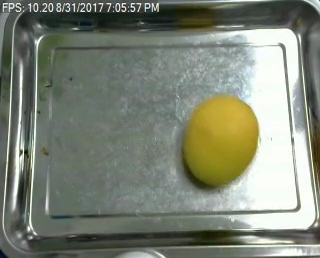Mango: (182, 94, 259, 183)
